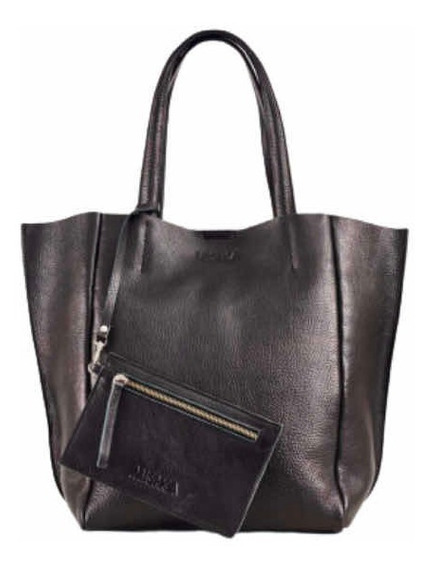cartera: (19, 29, 409, 535)
